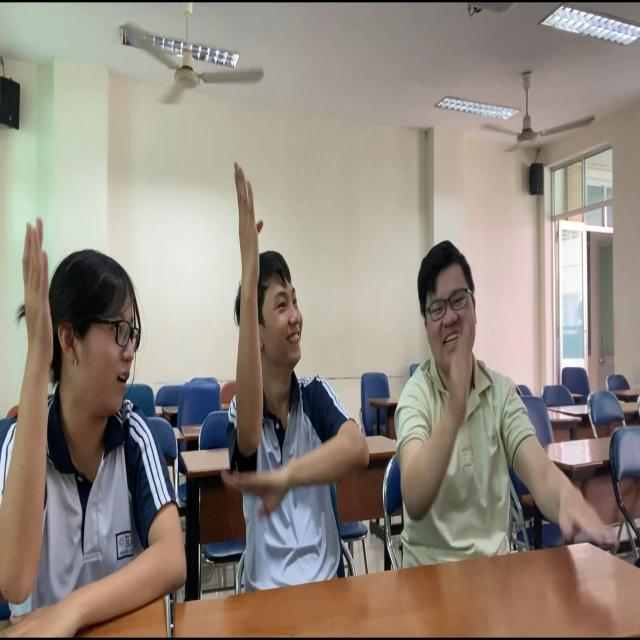raise_hand: (1, 178, 193, 640), (219, 153, 372, 531)
